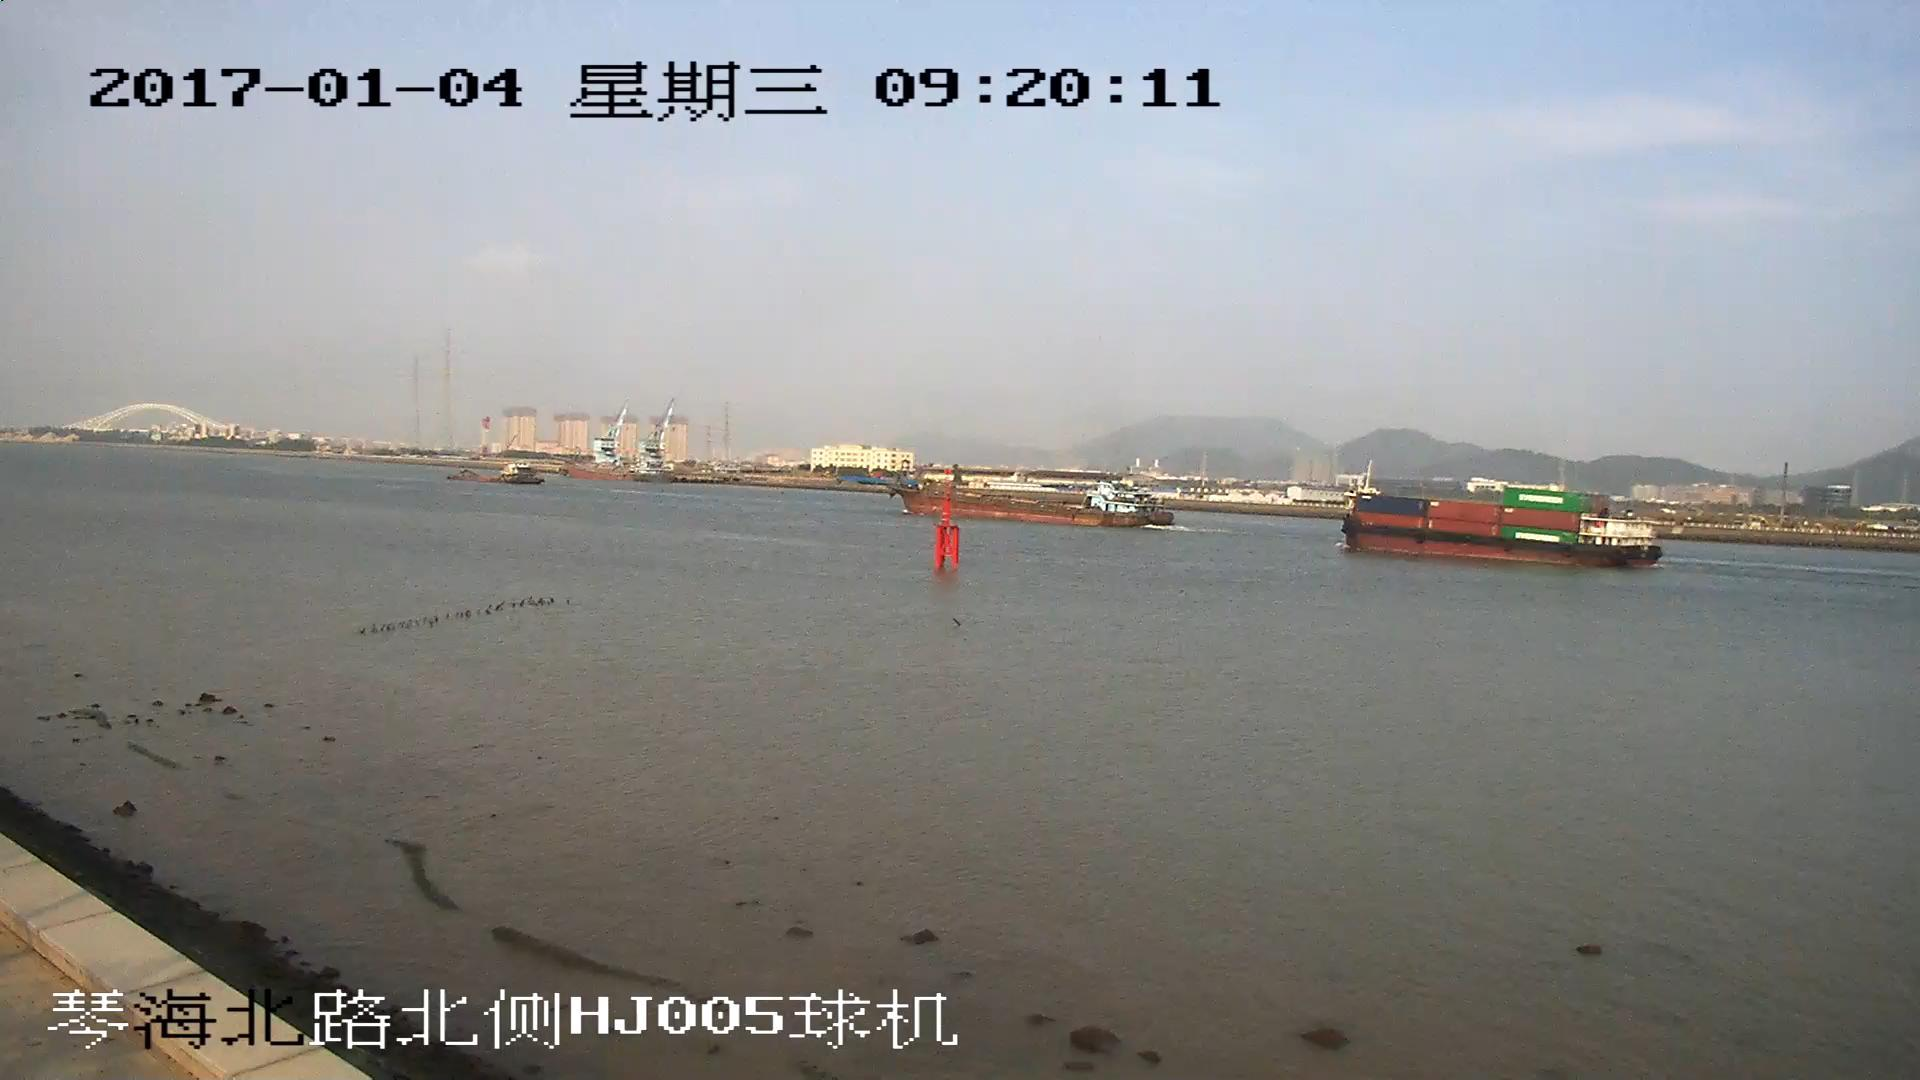Ship: (1348, 492, 1665, 574), (957, 483, 1174, 527)
